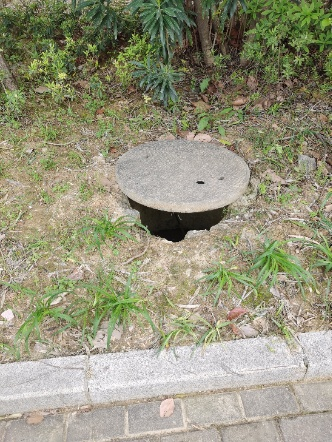broke: (113, 138, 250, 215)
